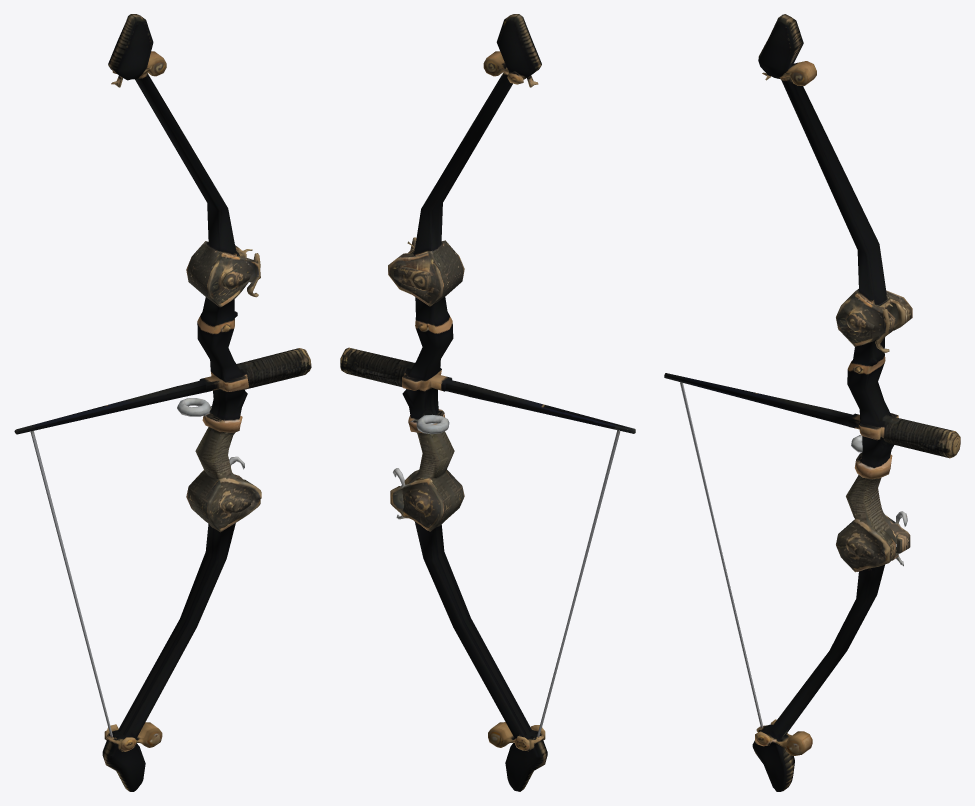
Rendered from bow.glb.
The picture shows the model from 3 angles, left to right: view 1: azimuth 30°, elevation 25°; view 2: azimuth 150°, elevation 25°; view 3: azimuth 330°, elevation 25°; orthographic projection.
Parts seen in each view (by area): view 1: base_model_path; view 2: base_model_path; view 3: base_model_path.
Boxes of the visible parts, box(x1,y1,x2,y2) form: base_model_path: box(14, 14, 311, 791); base_model_path: box(340, 14, 635, 791); base_model_path: box(664, 14, 960, 791).
Bounding box in the file's own units: 0.3934 × 1 × 0.0822.
1 material, 1 textured.
